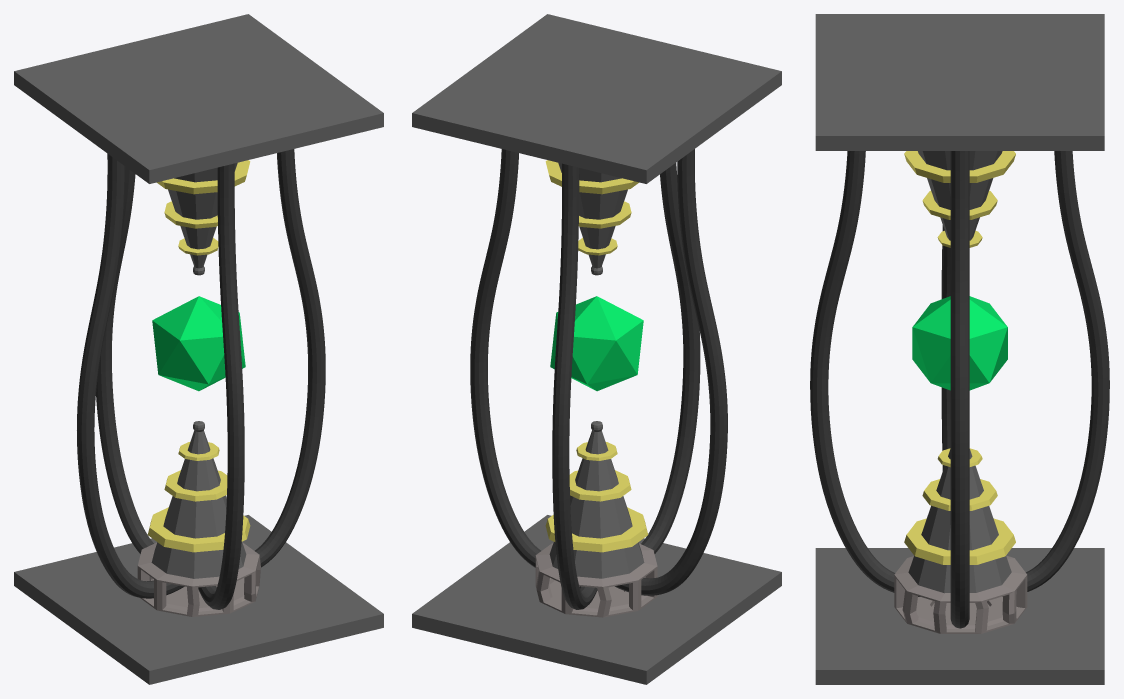
Rendered from core.fbx.
The picture shows the model from 3 angles, left to right: view 1: azimuth 30°, elevation 25°; view 2: azimuth 150°, elevation 25°; view 3: azimuth 270°, elevation 25°; orthographic projection. The views are drawn at different scales.
Visible parts, largest first — view 1: Cube.004, Cube.005, Cube.002, Cube.001, Cube, Cylinder, Icosphere, Cube.003, Cylinder.005, Cylinder.004, Cylinder.003, Cylinder.002; view 2: Cube.004, Cube.005, Cube.002, Cube.003, Cube, Cube.001, Cylinder, Icosphere, Cylinder.004, Cylinder.005, Cylinder.003, Cylinder.002; view 3: Cube.004, Cube.005, Cube, Cube.001, Cube.003, Icosphere, Cylinder.004, Cylinder, Cylinder.005, Cylinder.003, Cube.002, Cylinder.002.
Part boxes in pixels (x1,y1,x2,y2): Cube.004: (14, 14, 383, 183); Cube.005: (14, 515, 383, 684); Cube.002: (77, 153, 184, 598); Cube.001: (198, 163, 244, 609); Cube: (255, 149, 325, 567); Cylinder: (151, 421, 246, 578); Icosphere: (152, 296, 245, 391); Cube.003: (96, 167, 153, 553); Cylinder.005: (157, 160, 250, 275); Cylinder.004: (137, 542, 260, 616); Cylinder.003: (147, 507, 250, 552); Cylinder.002: (164, 470, 227, 501); Cube.004: (412, 14, 781, 183); Cube.005: (412, 515, 781, 684); Cube.002: (615, 149, 727, 595); Cube.003: (552, 163, 597, 609); Cube: (470, 149, 540, 567); Cube.001: (641, 163, 700, 553); Cylinder: (549, 421, 644, 578); Icosphere: (550, 296, 643, 391); Cylinder.004: (535, 542, 657, 617); Cylinder.005: (545, 160, 638, 275); Cylinder.003: (545, 507, 648, 552); Cylinder.002: (569, 470, 631, 501); Cube.004: (815, 14, 1104, 150); Cube.005: (815, 548, 1104, 684); Cube: (950, 151, 969, 628); Cube.001: (810, 151, 919, 596); Cube.003: (1002, 151, 1109, 596); Icosphere: (912, 296, 1007, 390); Cylinder.004: (894, 555, 1027, 633); Cylinder: (908, 449, 1011, 593); Cylinder.005: (904, 151, 1015, 247); Cylinder.003: (904, 518, 1015, 564); Cube.002: (941, 225, 950, 470); Cylinder.002: (922, 479, 997, 510).
Size of the model in its own units: 459 by 900 by 445.
